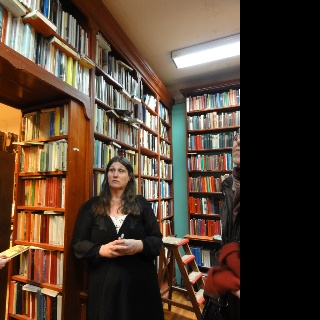without_mask: (106, 161, 129, 189)
